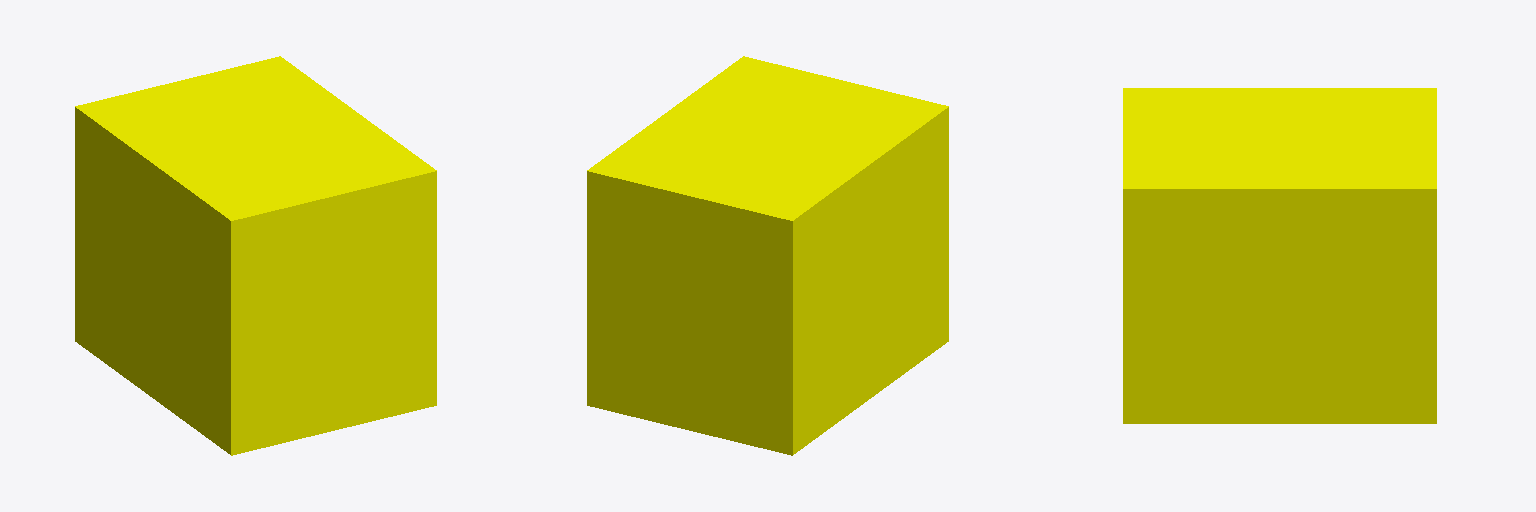
File: prt00033.obj
The picture shows the model from 3 angles: view 1: azimuth 30°, elevation 25°; view 2: azimuth 150°, elevation 25°; view 3: azimuth 270°, elevation 25°; orthographic projection.
Parts seen in each view (by area): view 1: 1; view 2: 1; view 3: 1.
Part boxes in pixels (bbox=[...]): 1: bbox=[75, 56, 436, 455]; 1: bbox=[587, 56, 948, 455]; 1: bbox=[1123, 88, 1436, 423].
Size of the model in its own units: 164 by 179 by 217.